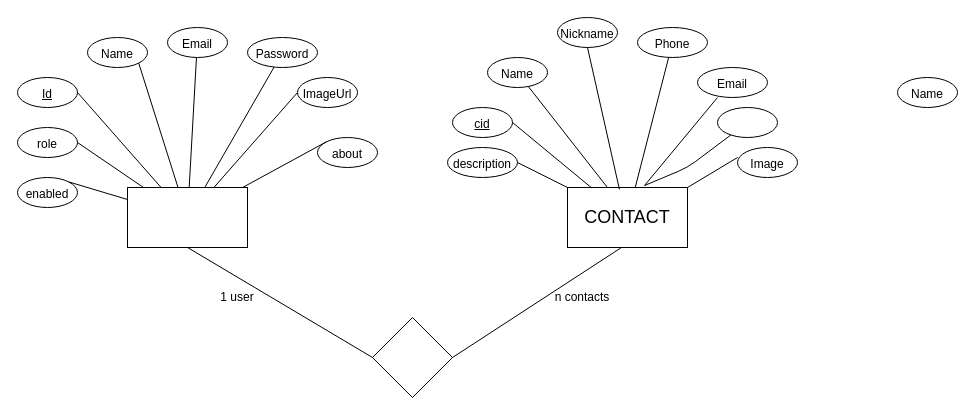
Some shapes in this 975 by 415 pixel diagram are drawn without their labels. Each missing label, with the centre of its shape:
"has" belongs at pixel 412 357.
"USER" belongs at pixel 187 217.
"Work" belongs at pixel 747 122.
